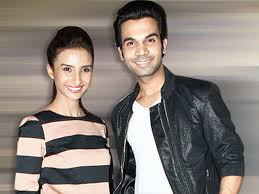Bad: (14, 1, 244, 194)
